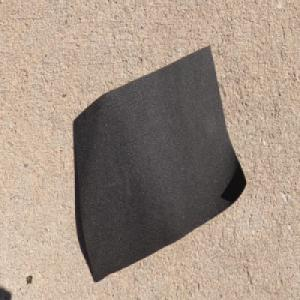PaintChip: (72, 43, 247, 284)
